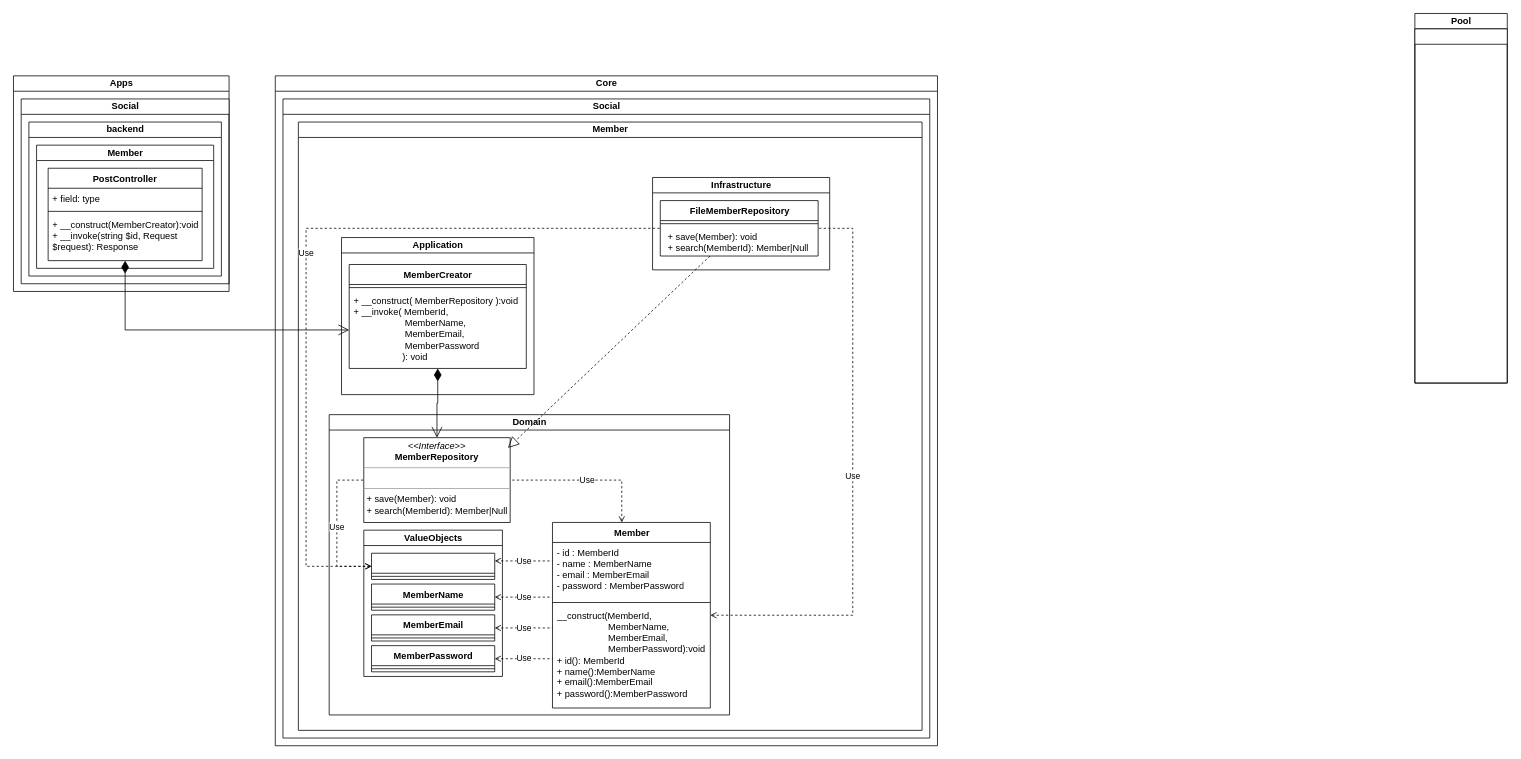
This 1521x759 diagram has some shape labels left out. The shapes that lost their labels are listed below. From the top down, each one's centre as x and y in pixels, then its label:
At [1460,205]: "Lane 3".
At [433,565]: "MemberId".
